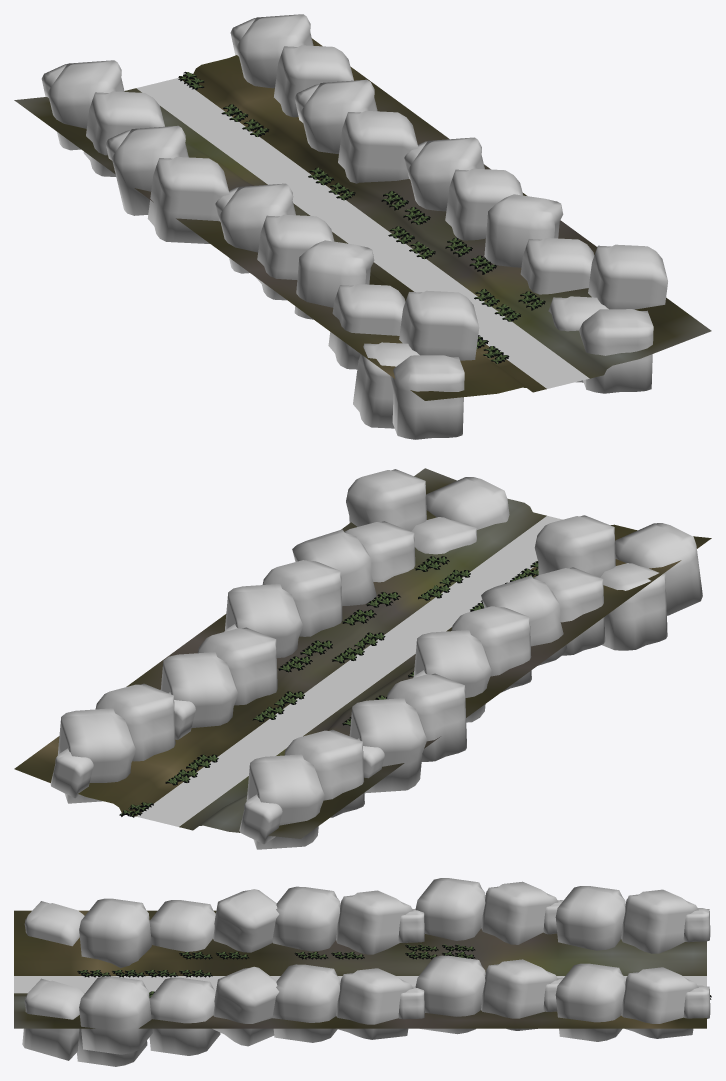
The model's file is ground_1.fbx.
3 views of the same model, one above another, from view 1: azimuth 30°, elevation 25°; view 2: azimuth 150°, elevation 25°; view 3: azimuth 270°, elevation 25° (orthographic). The views are drawn at different scales.
Parts seen in each view (by area): view 1: CLIFFS, GROUND, Plant.002; view 2: CLIFFS, GROUND, Plant.002; view 3: CLIFFS, GROUND, Plant.002.
Boxes of the visible parts, x1,y1,x2,y2 form: CLIFFS: (41,14,667,439); GROUND: (14,38,711,400); Plant.002: (178,71,545,363); CLIFFS: (50,469,702,849); GROUND: (14,468,711,838); Plant.002: (119,556,538,817); CLIFFS: (22,878,710,1066); GROUND: (14,910,706,1028); Plant.002: (77,944,711,999).
Size of the model in its own units: 4326 by 1463 by 10073.
